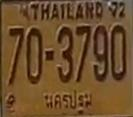0: (111, 25, 129, 81), (27, 26, 44, 84)
3: (54, 24, 74, 83)
7: (76, 25, 91, 83), (8, 27, 23, 84)
9: (92, 25, 109, 80)
NPT: (41, 87, 97, 115)
